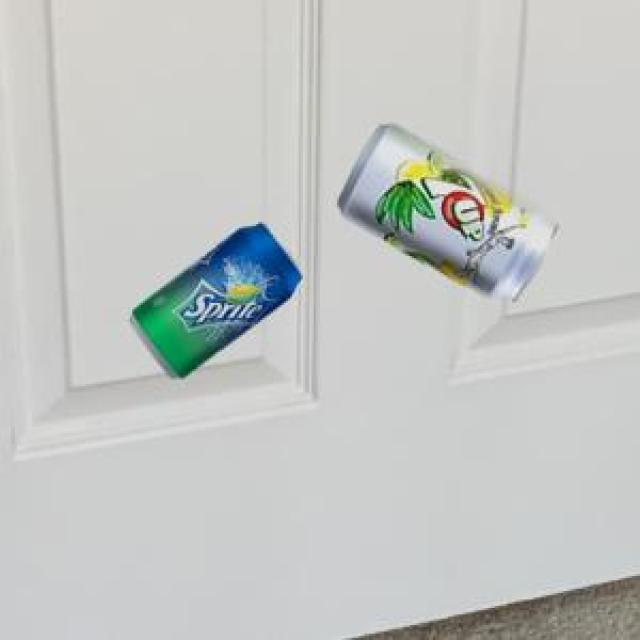logam: (336, 123, 551, 298), (129, 221, 298, 374)
